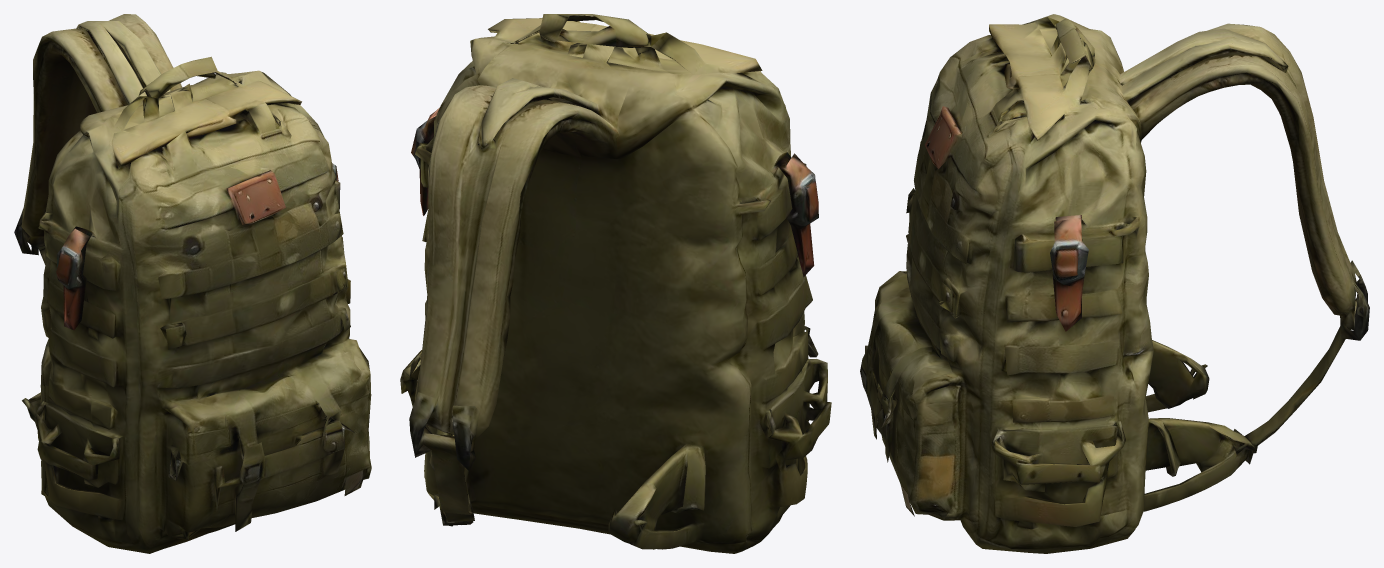
Rendered from bp_small.glb.
The picture shows the model from 3 angles, left to right: view 1: azimuth 30°, elevation 25°; view 2: azimuth 150°, elevation 25°; view 3: azimuth 270°, elevation 25°; orthographic projection. The views are drawn at different scales.
Visible parts, largest first — view 1: tripo_node_d6618f37-9abb-4eae-b02f-4a4e8b636448; view 2: tripo_node_d6618f37-9abb-4eae-b02f-4a4e8b636448; view 3: tripo_node_d6618f37-9abb-4eae-b02f-4a4e8b636448.
Boxes of the visible parts, <box> form: tripo_node_d6618f37-9abb-4eae-b02f-4a4e8b636448: <box>14,14,371,553</box>; tripo_node_d6618f37-9abb-4eae-b02f-4a4e8b636448: <box>400,14,831,553</box>; tripo_node_d6618f37-9abb-4eae-b02f-4a4e8b636448: <box>860,14,1369,553</box>.
Bounding box in the file's own units: 0.7581 × 0.9793 × 0.9732.
Materials: 1 (1 with a texture image).
